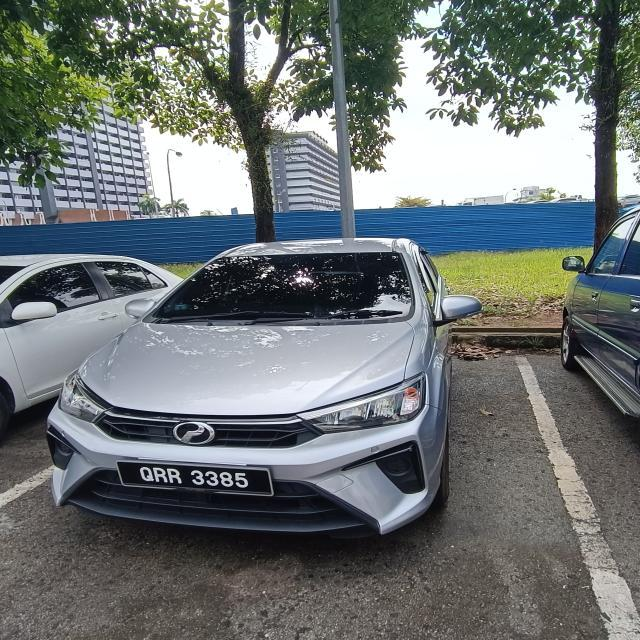PeroduaBezza: (44, 236, 482, 538)
